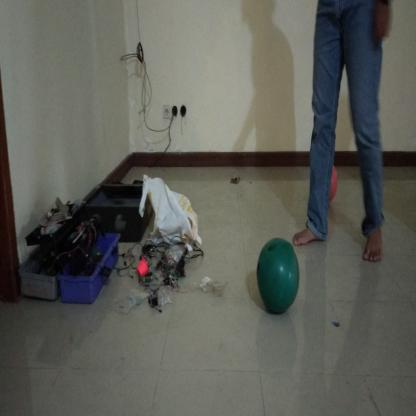green_buoy: (255, 235, 303, 320)
red_buoy: (330, 164, 337, 206)
